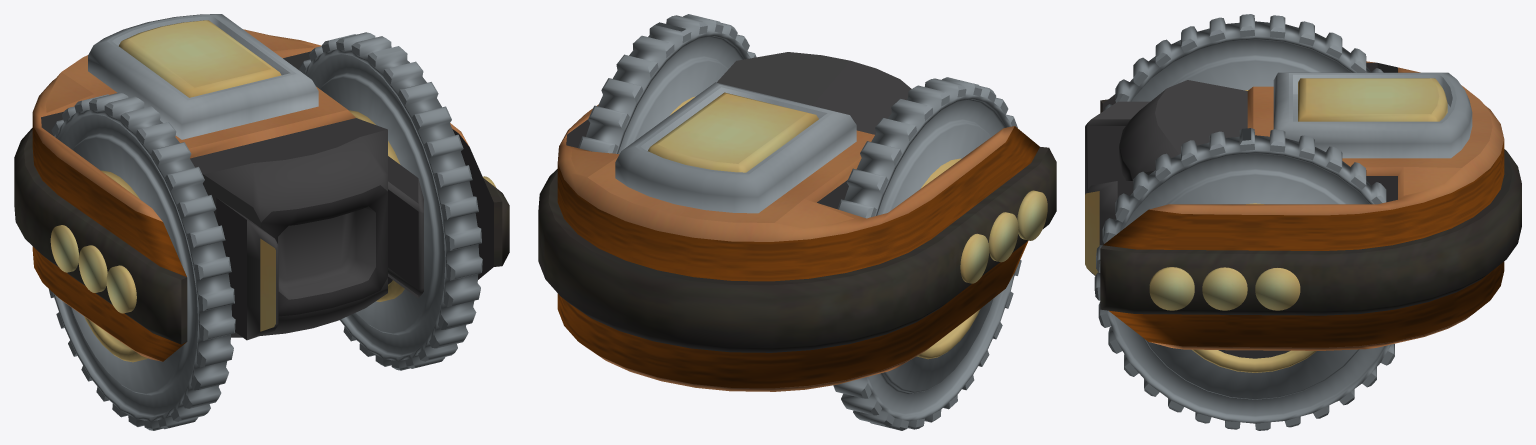
Rendered from OS_Cavalry_Cannon_Verticle.obj.
3 views of the same model, side by side, from view 1: azimuth 30°, elevation 25°; view 2: azimuth 150°, elevation 25°; view 3: azimuth 270°, elevation 25° (orthographic). The views are drawn at different scales.
Parts seen in each view (by area): view 1: Verticle_Cylinder.001; view 2: Verticle_Cylinder.001; view 3: Verticle_Cylinder.001.
Part boxes in pixels (x1,y1,x2,y2): Verticle_Cylinder.001: (14, 14, 509, 430); Verticle_Cylinder.001: (538, 14, 1056, 430); Verticle_Cylinder.001: (1085, 14, 1521, 430).
Size of the model in its own units: 0.536 by 0.4254 by 0.5785.
